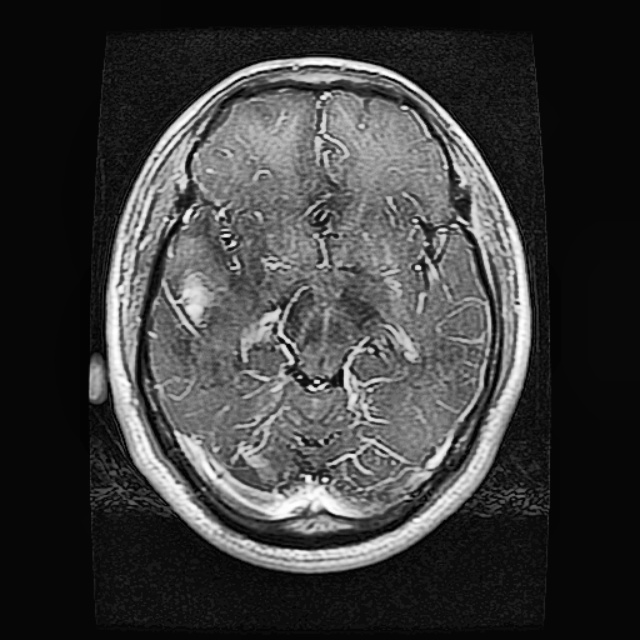Pituitary: (162, 265, 214, 337)
